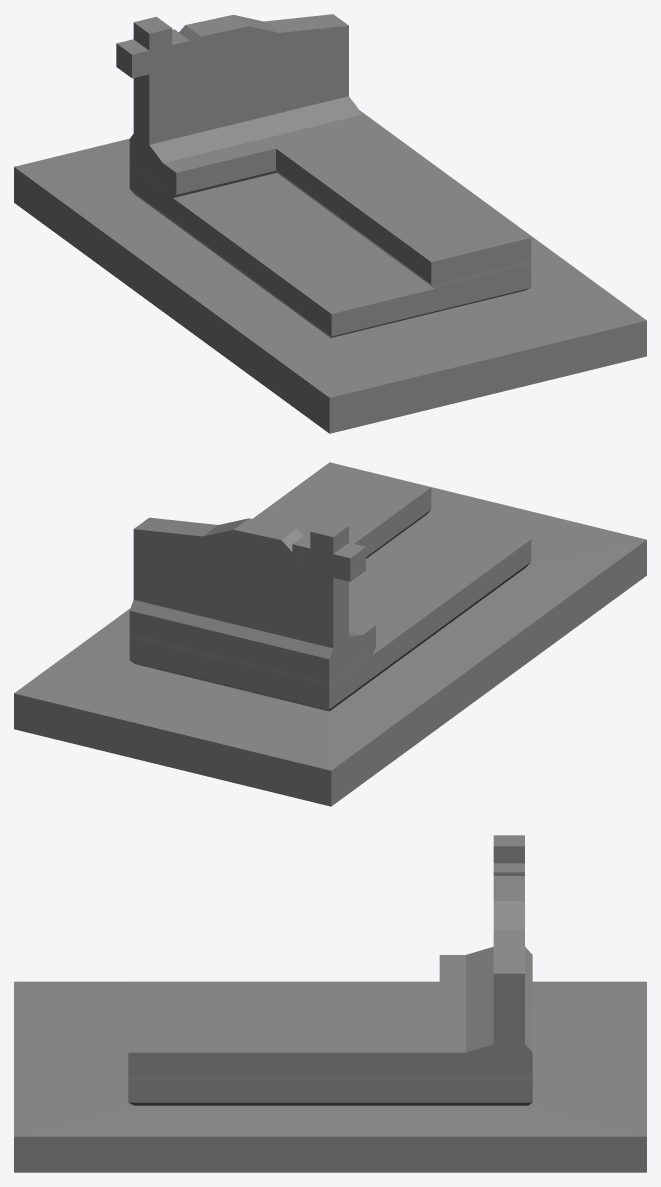
The model's file is Model_Grob5.fbx.
3 renders of one model, top to bottom at view 1: azimuth 30°, elevation 25°; view 2: azimuth 150°, elevation 25°; view 3: azimuth 270°, elevation 25°, orthographic.
Parts seen in each view (by area): view 1: Cube; view 2: Cube; view 3: Cube.
Part boxes in pixels (x1=…): Cube: x1=14, y1=14, x2=646, y2=433; Cube: x1=14, y1=462, x2=646, y2=806; Cube: x1=14, y1=835, x2=646, y2=1172.
Bounding box in the file's own units: 408 × 150 × 236.
